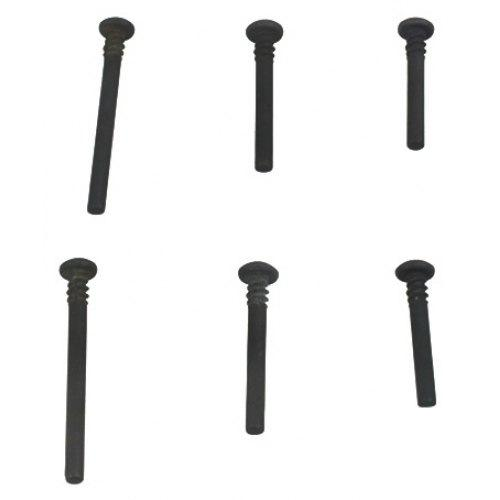Tornillo: (53, 257, 101, 485), (83, 14, 137, 213), (236, 259, 283, 438), (391, 257, 438, 409), (242, 17, 286, 175), (395, 15, 436, 152)
